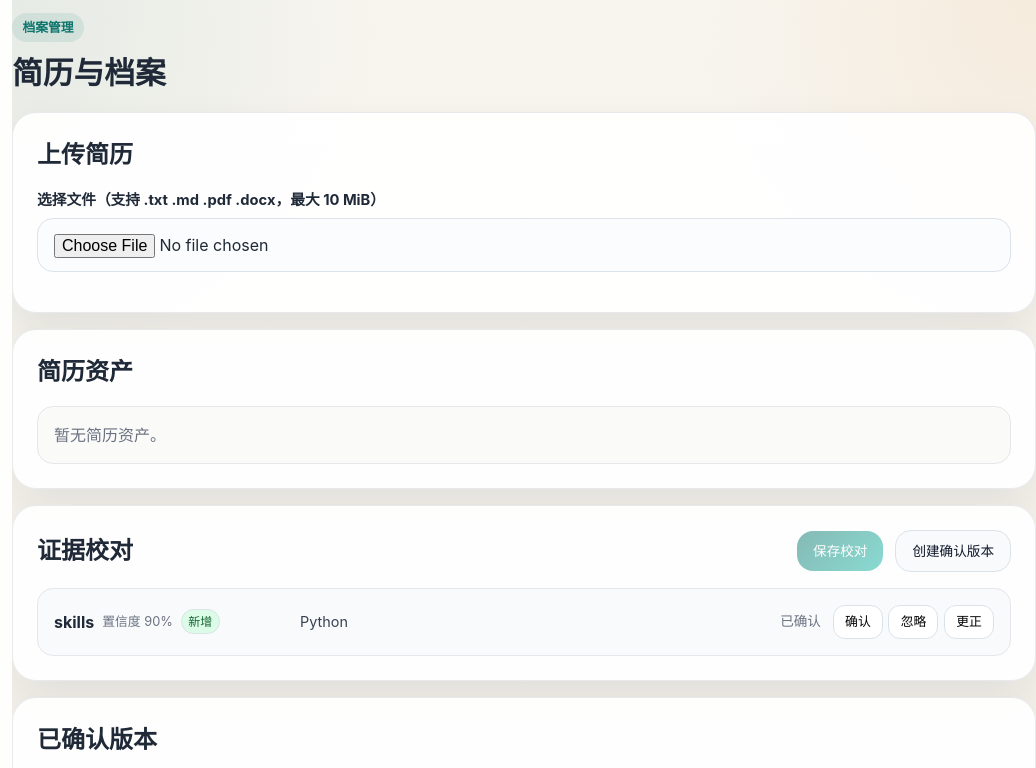
Test: ProfileWorkspace › uses a default message when creating a version fails without one
Click the button with test id "create-version". click: (953, 551)
box: [895,530,1011,572]
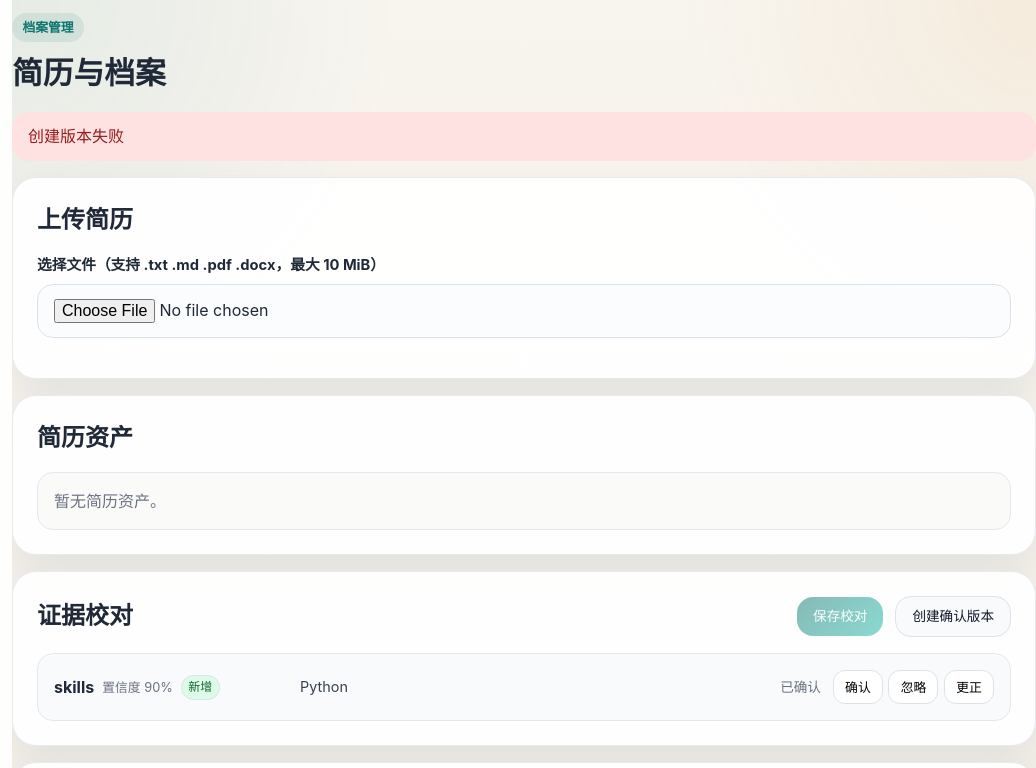
Now the text "创建版本失败" is shown, box [12,112,1035,161]
